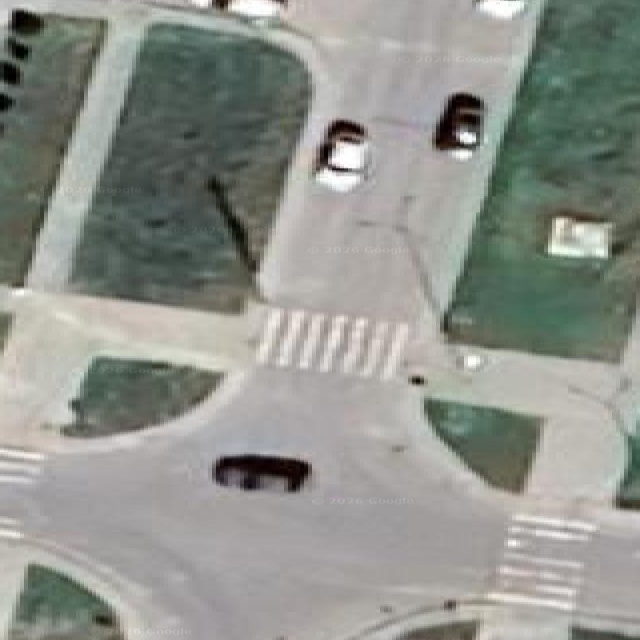car: (0, 8, 44, 111), (313, 120, 369, 191), (212, 453, 310, 492), (433, 92, 484, 158), (0, 8, 44, 83), (547, 213, 612, 259), (192, 0, 286, 19), (473, 0, 524, 19), (9, 8, 43, 35), (5, 35, 26, 59), (0, 60, 19, 84), (0, 92, 12, 111), (190, 0, 212, 7), (0, 123, 3, 131)
